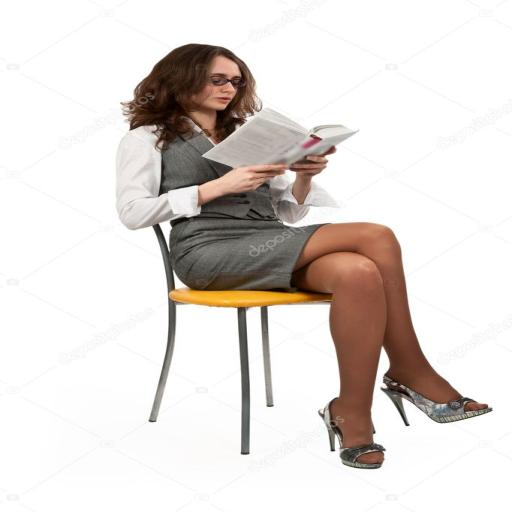bed: (203, 100, 355, 178)
bottle: (135, 206, 381, 458)
crosswalk: (115, 43, 495, 472)
